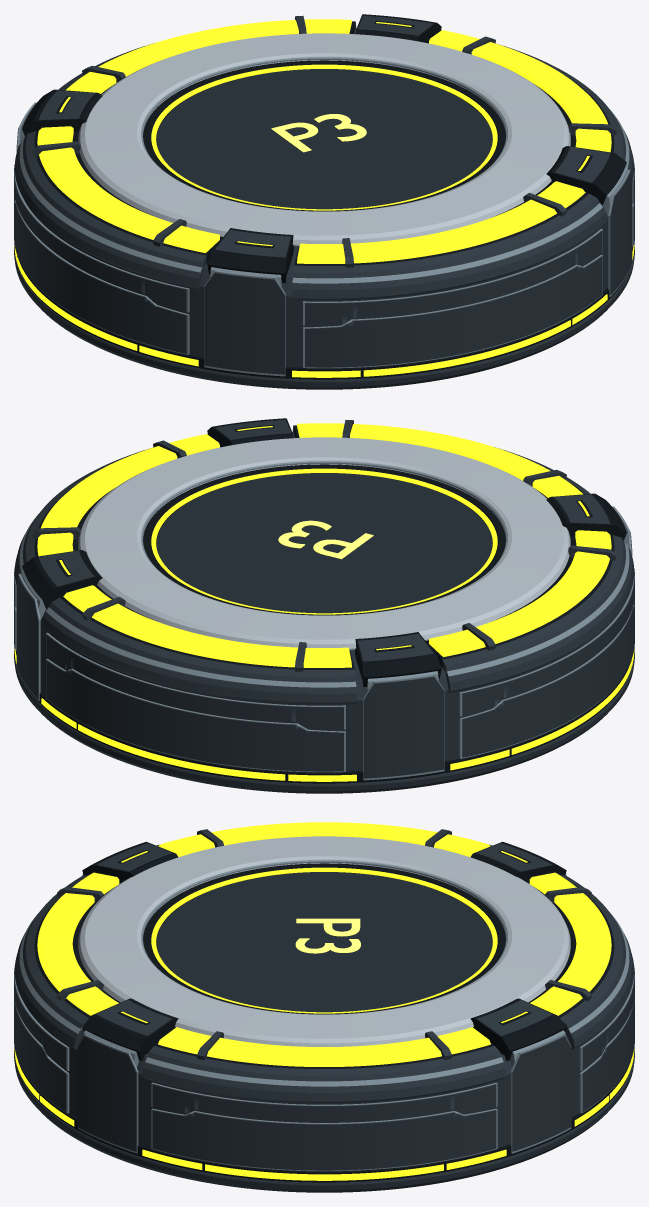
File: Grippy.fbx
3 views of the same model, one above another, from view 1: azimuth 30°, elevation 25°; view 2: azimuth 150°, elevation 25°; view 3: azimuth 270°, elevation 25° (orthographic).
Visible parts, largest first — view 1: SM_Puck_Grippy_P3_HighDetail; view 2: SM_Puck_Grippy_P3_HighDetail; view 3: SM_Puck_Grippy_P3_HighDetail.
Part boxes in pixels (box(x1,y1,x2,y2)): SM_Puck_Grippy_P3_HighDetail: box(14, 14, 634, 389); SM_Puck_Grippy_P3_HighDetail: box(14, 418, 634, 793); SM_Puck_Grippy_P3_HighDetail: box(14, 822, 634, 1192).
Size of the model in its own units: 90.3 by 90.3 by 20.9.
